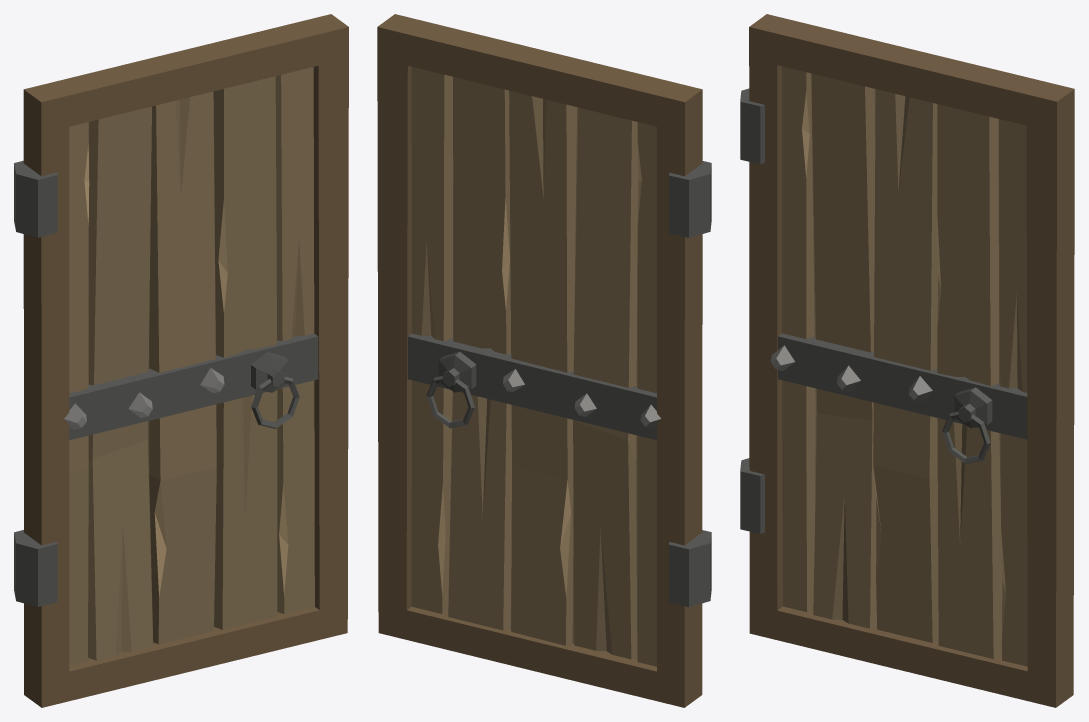
File: rpgpp_ag_door_gate_03_left.fbx
3 views of the same model, side by side, from view 1: azimuth 30°, elevation 25°; view 2: azimuth 150°, elevation 25°; view 3: azimuth 330°, elevation 25° (orthographic).
Parts seen in each view (by area): view 1: rpgpp_ag_door_gate_03_left; view 2: rpgpp_ag_door_gate_03_left; view 3: rpgpp_ag_door_gate_03_left.
Boxes of the visible parts, bbox=[...] form: rpgpp_ag_door_gate_03_left: bbox=[14, 14, 348, 707]; rpgpp_ag_door_gate_03_left: bbox=[377, 14, 711, 707]; rpgpp_ag_door_gate_03_left: bbox=[740, 14, 1074, 707].
Bounding box in the file's own units: 2.08 × 3.72 × 0.4371.
